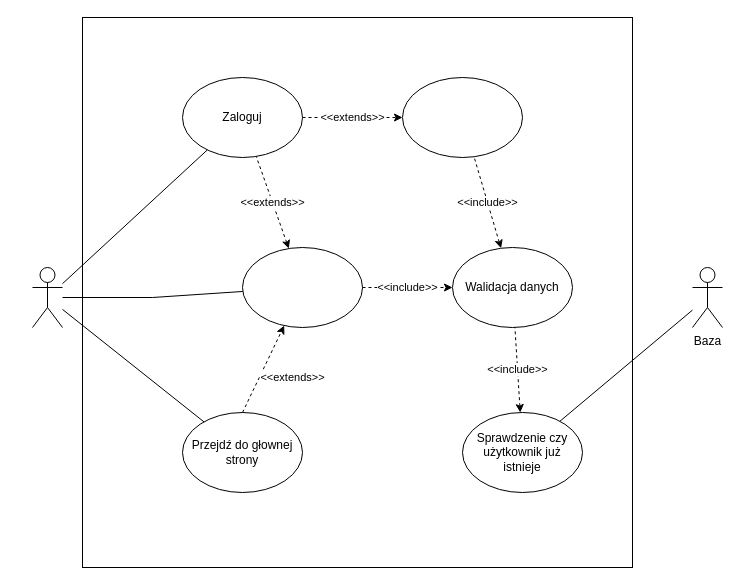
The diagram is 740 pixels wide and 585 high, and some of its shapes have lost their labels. The centre of each missing label's shape, as x and y in pixels:
"Przypomnij hasło" goes at (x=462, y=117).
"Utwórz konto" goes at (x=302, y=287).
"Użytkownik" goes at (x=47, y=297).
